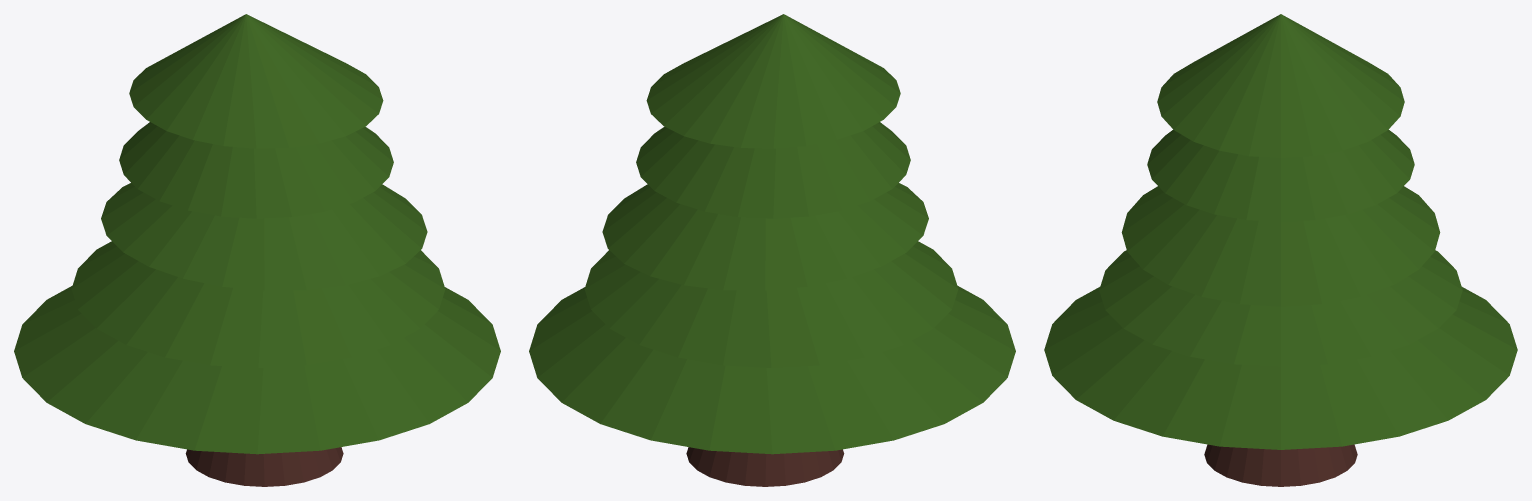
The model's file is tree1.obj.
3 renders of one model, left to right at view 1: azimuth 30°, elevation 25°; view 2: azimuth 150°, elevation 25°; view 3: azimuth 270°, elevation 25°, orthographic. The views are drawn at different scales.
Parts seen in each view (by area): view 1: tree1_Cylinder; view 2: tree1_Cylinder; view 3: tree1_Cylinder.
Boxes of the visible parts, x1,y1,x2,y2 form: tree1_Cylinder: (14,14,500,486); tree1_Cylinder: (529,14,1015,486); tree1_Cylinder: (1044,14,1517,486).
Size of the model in its own units: 1.27 by 1.28 by 1.27.
